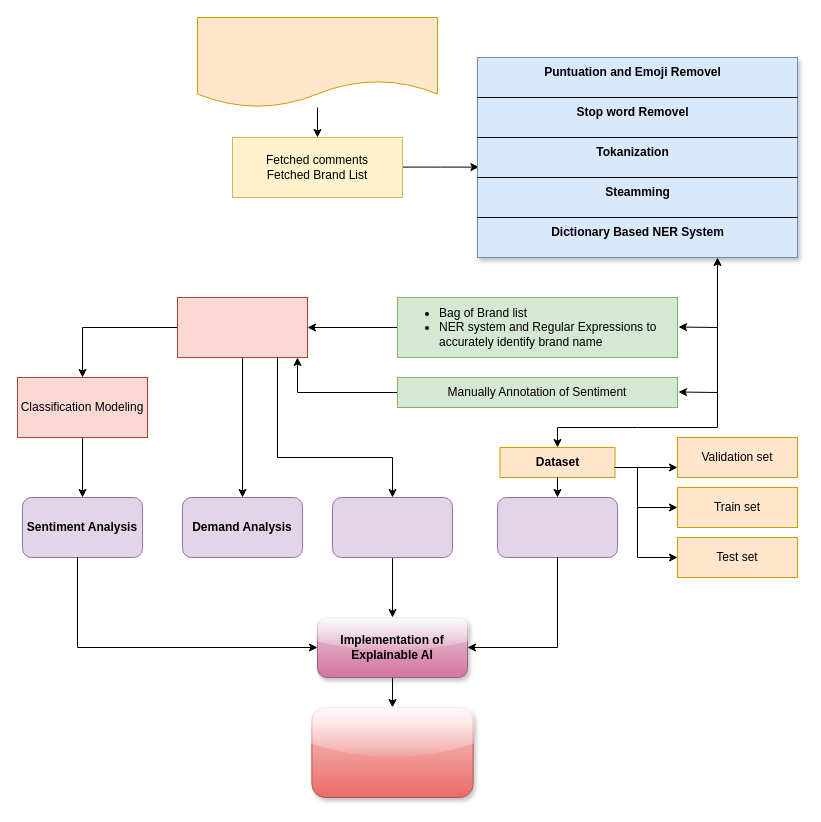
This 821x822 diagram has some shape labels left out. The centre of each missing label's shape, as x and y in pixels:
"Gender Prediction" belongs at (557,527).
"Local Interpretable Model-agnostic Explanations (LIME) XAI" belongs at (393,753).
"Name Entity Recognition" belongs at (392,527).
"Pre-processed Data" belongs at (242,327).
"Social Platform comment Scrapping Brand Model name Scraping" belongs at (317,62).
